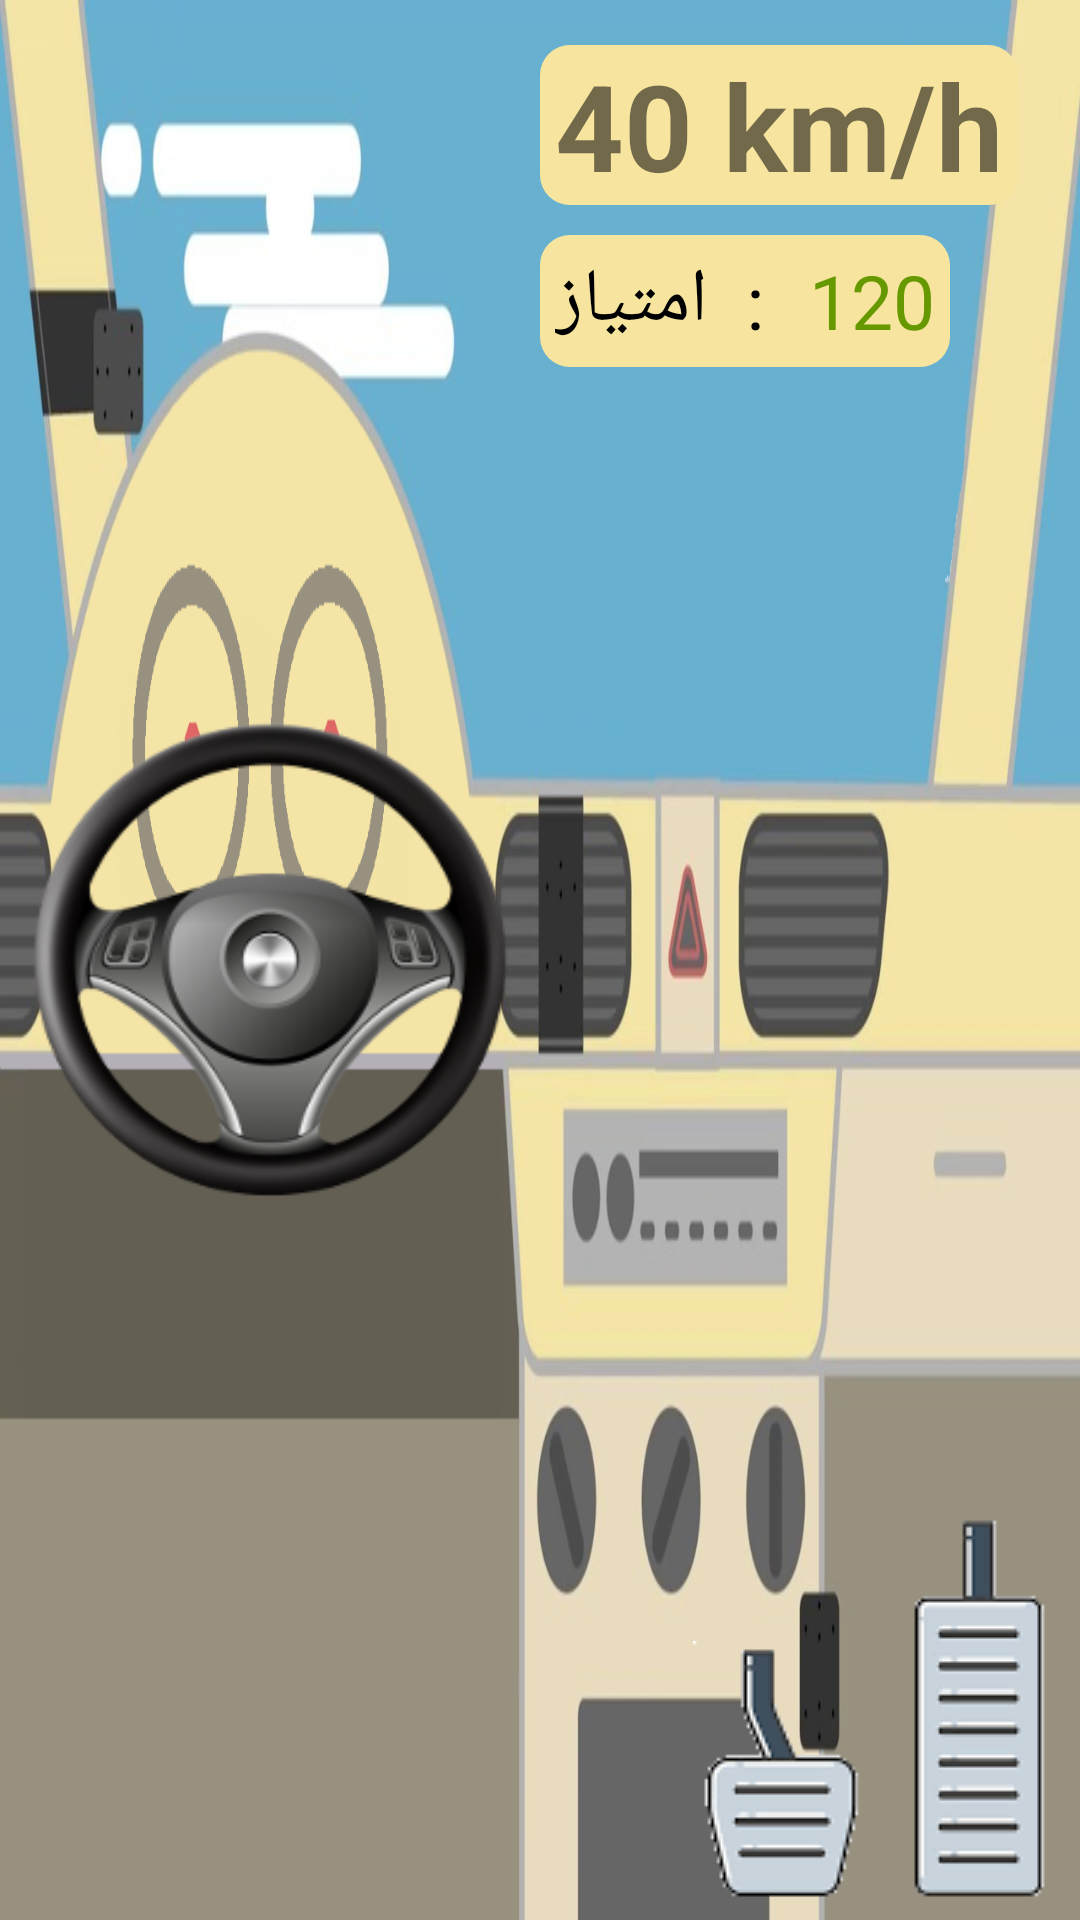

Icons on this 1080px×1920px Android screen, each with the point to tap as point (x, y):
break not: point (778, 1773)
